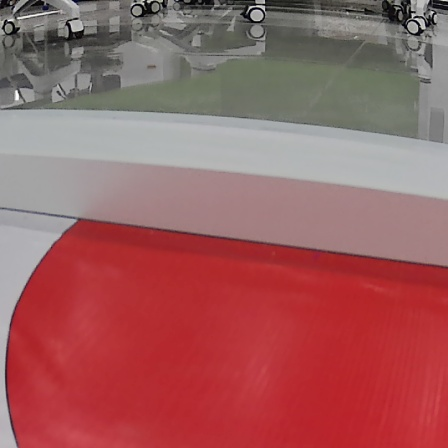red_base: (3, 202, 448, 448)
